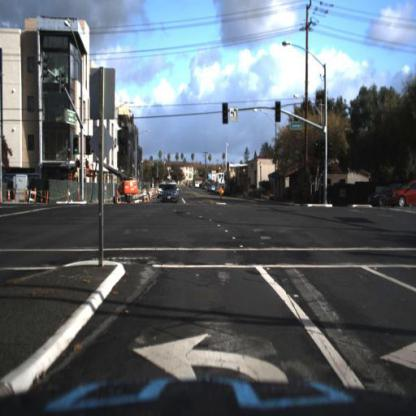car: (364, 188, 394, 209), (368, 187, 397, 205), (159, 184, 177, 202), (156, 183, 166, 202), (194, 178, 202, 193)
trafficLight-GreenLeft: (220, 98, 230, 124), (74, 137, 79, 156)
trafficLight-Red: (272, 100, 280, 127), (318, 134, 326, 157), (222, 103, 228, 124)
